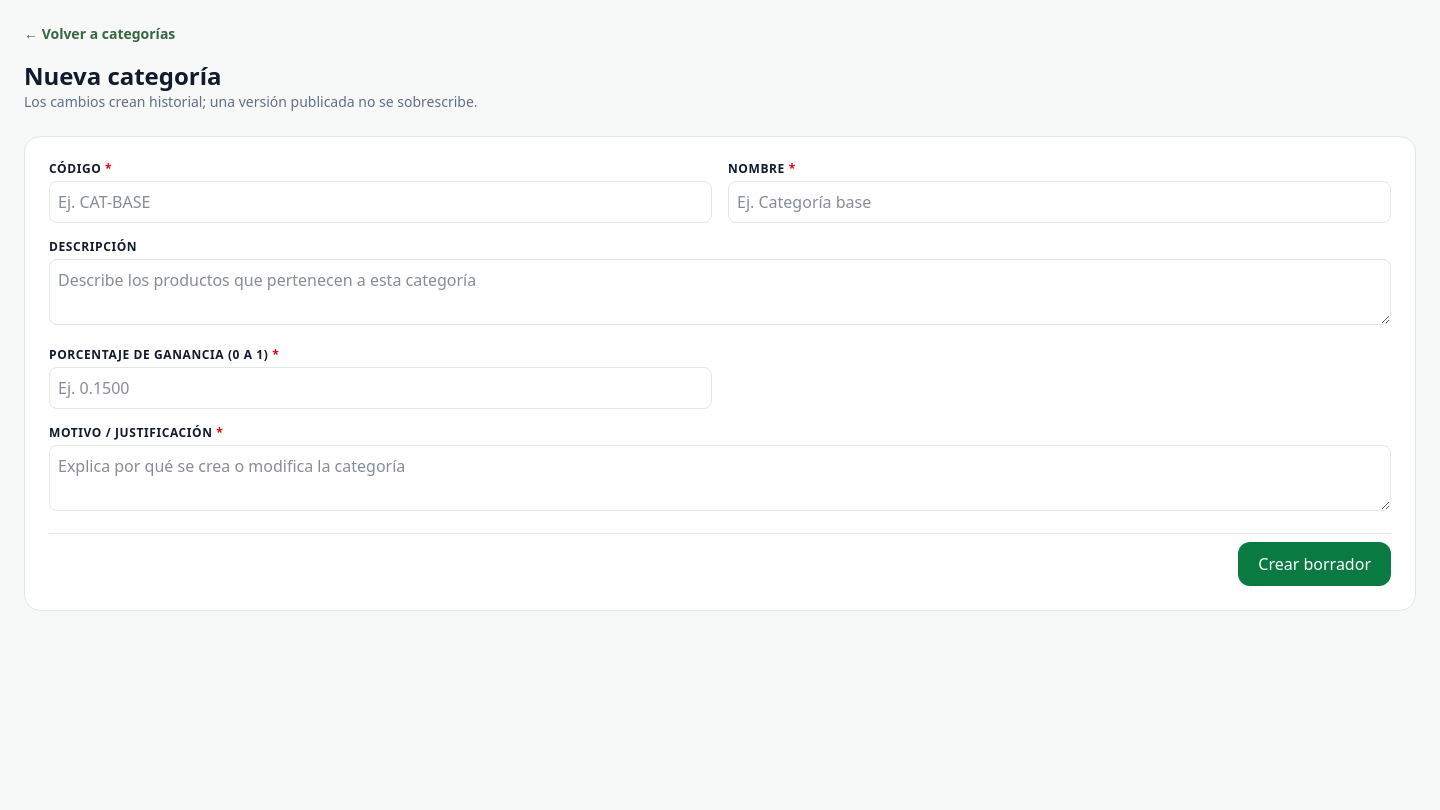
Test: CategoriaDetalleComponent › muestra el error al enfocar un campo obligatorio vacío
The width and height of the screenshot is (1440, 810).
Focus the field named "name" at [1060, 202], box [728, 181, 1391, 223]
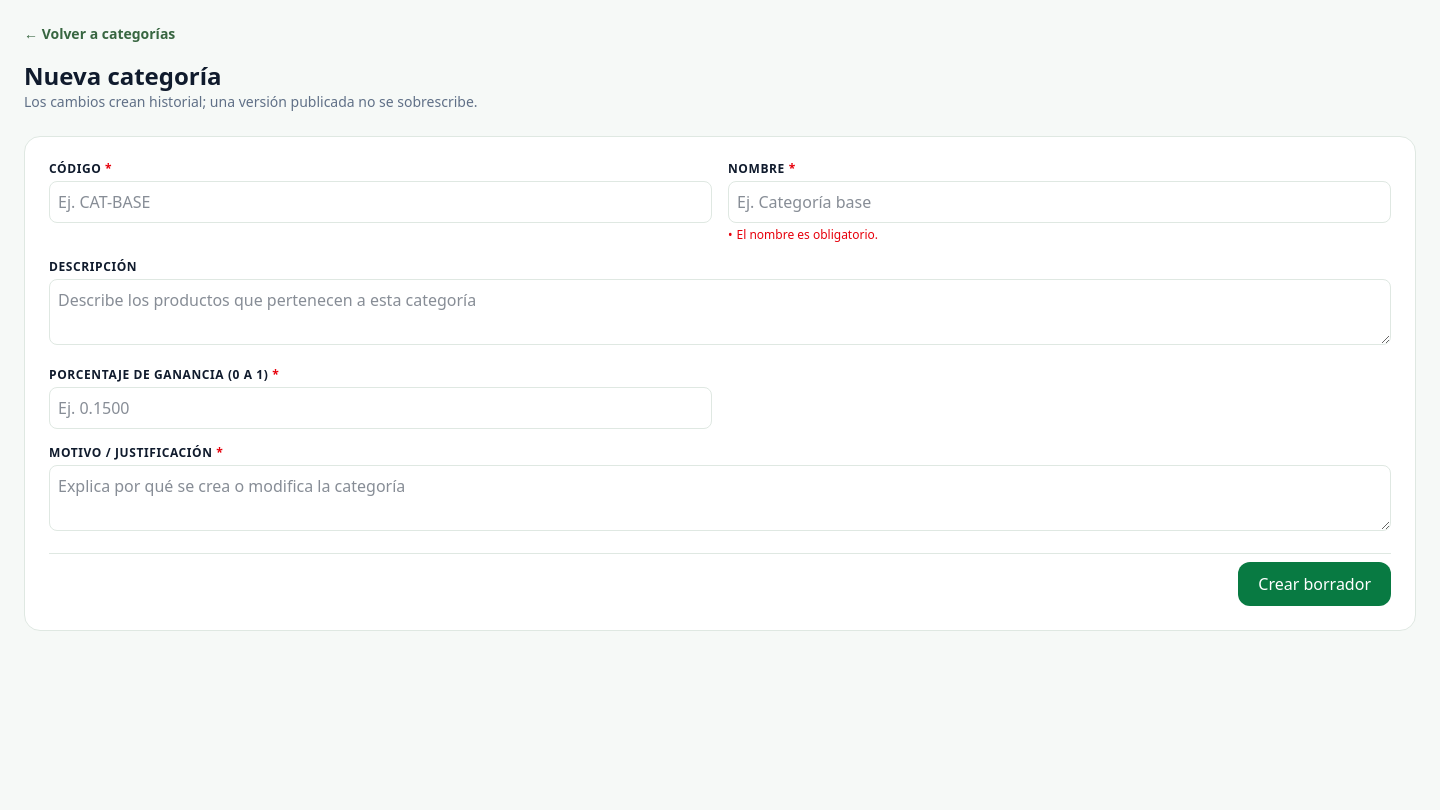
expect the text "El nombre es obligatorio." is shown: met, box [736, 227, 878, 243]
